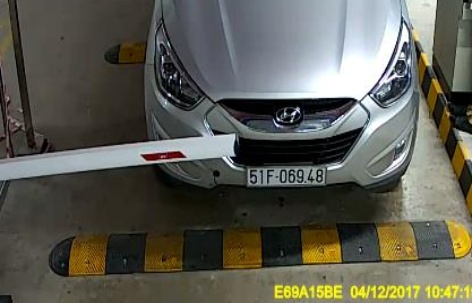plate: (240, 160, 330, 190)
